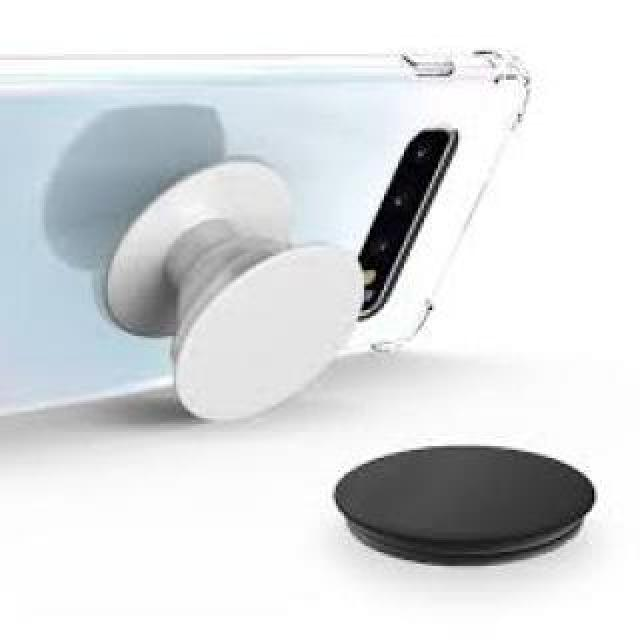smart phone: (10, 43, 543, 425)
